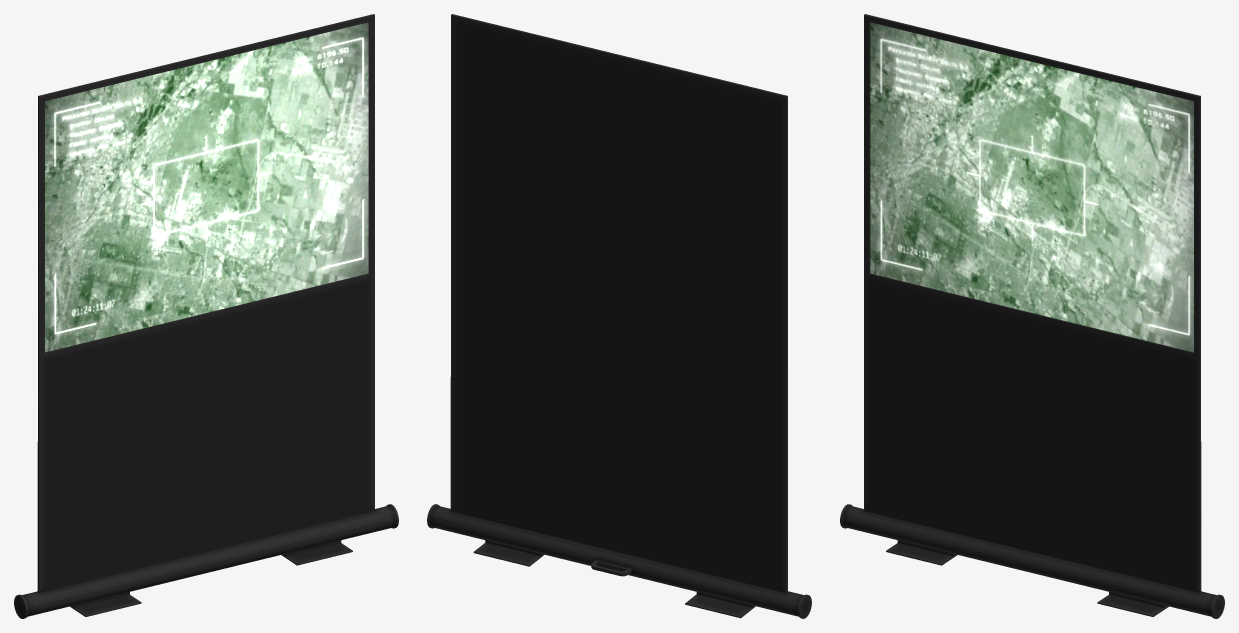
Rendered from simple_tv_projector_screen.glb.
3 renders of one model, left to right at view 1: azimuth 30°, elevation 25°; view 2: azimuth 150°, elevation 25°; view 3: azimuth 330°, elevation 25°, orthographic.
Visible parts, largest first — view 1: Cube_0; view 2: Cube_0; view 3: Cube_0.
Boxes of the visible parts, bbox=[...] form: Cube_0: bbox=[14, 14, 398, 618]; Cube_0: bbox=[427, 14, 811, 618]; Cube_0: bbox=[840, 14, 1224, 618].
Size of the model in its own units: 2 by 2.67 by 0.2344.
Materials: 1 (1 with a texture image).
